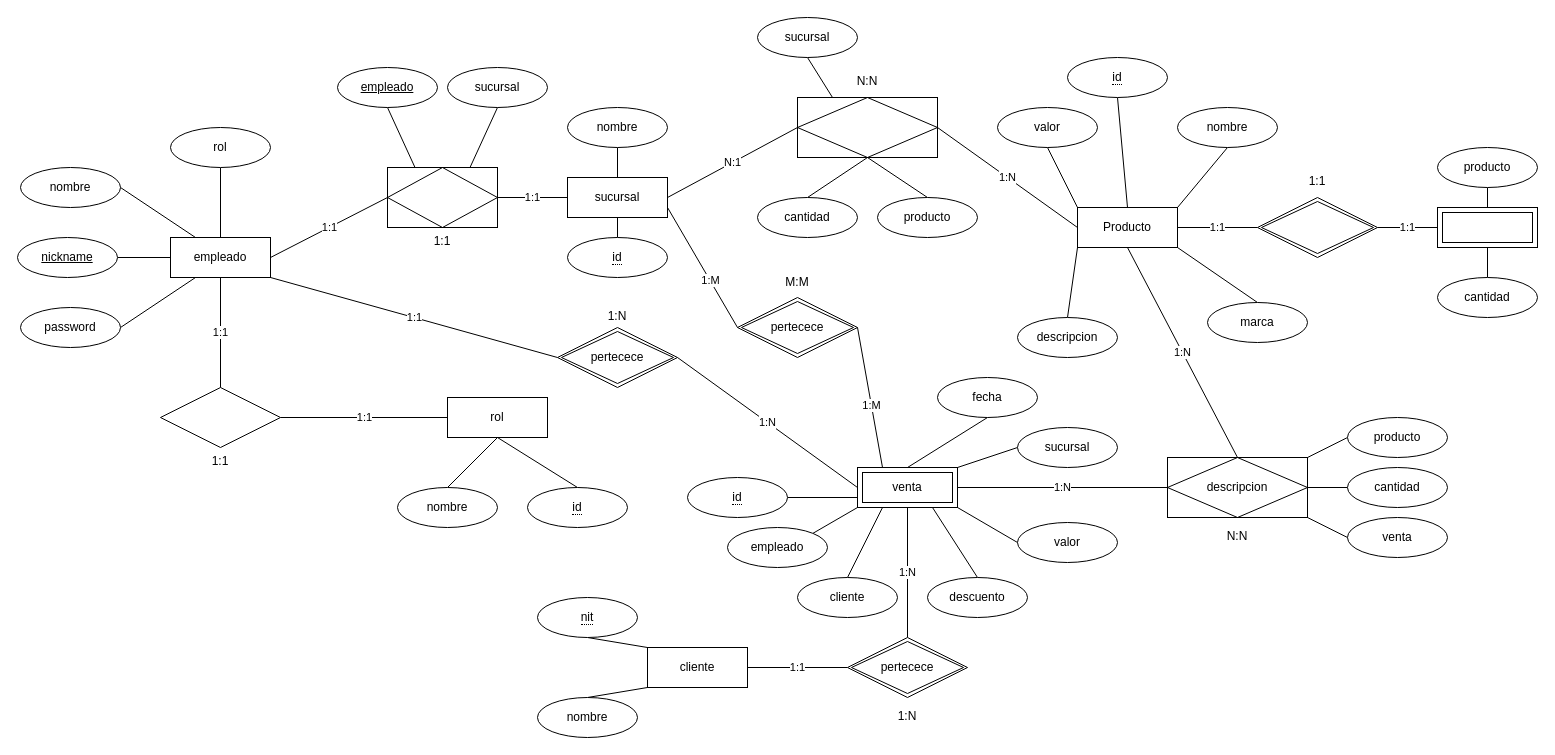
This 1555x755 diagram has some shape labels left out. The centre of each missing label's shape, as x and y in pixels:
"bodega" belongs at (x=1487, y=227).
"contiene" belongs at (x=1317, y=227).
"planilla" belongs at (x=442, y=197).
"posee" belongs at (x=220, y=417).
"stock" belongs at (x=867, y=127).
